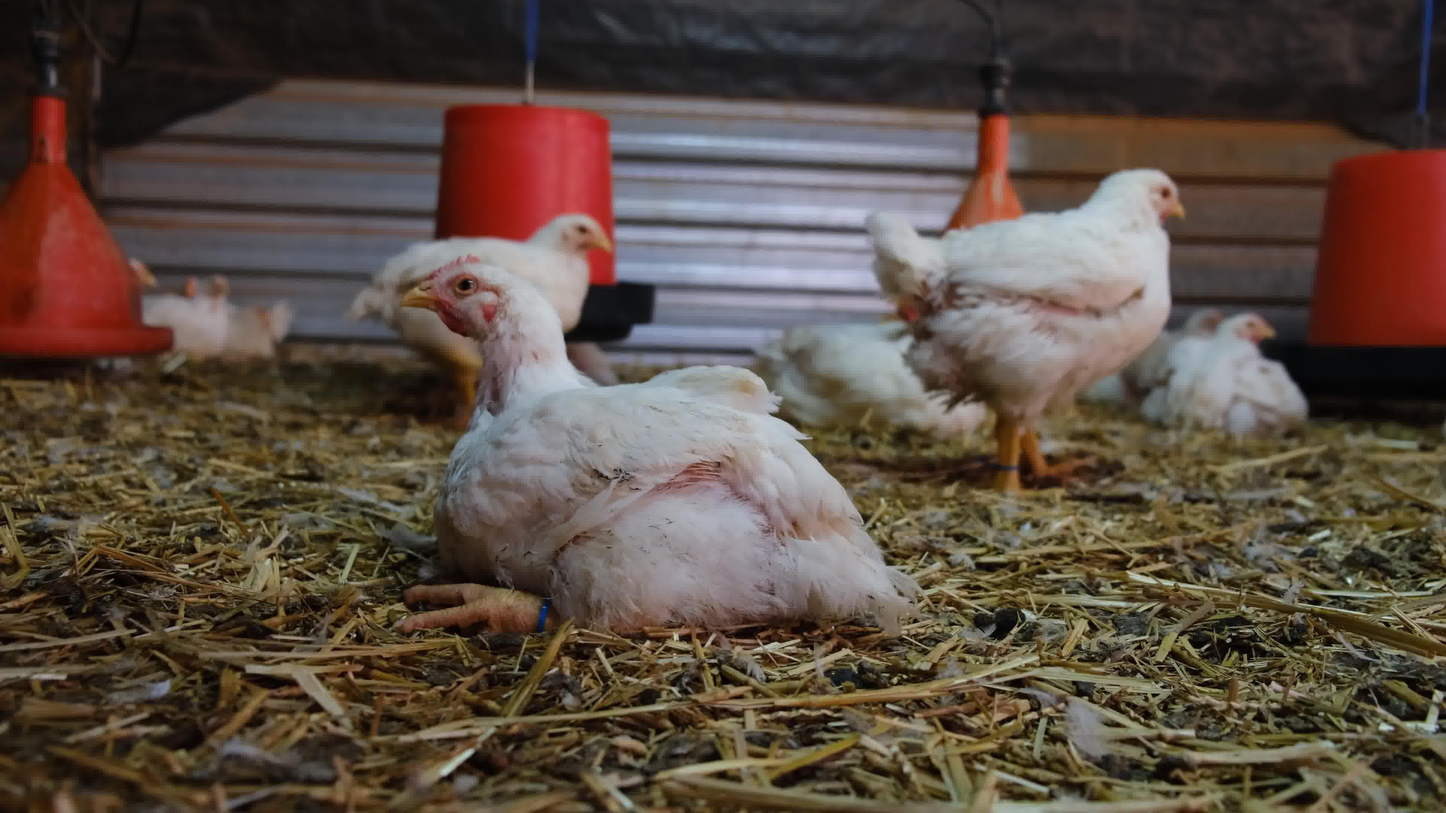AbNormal: (384, 250, 923, 646), (725, 307, 1043, 450), (1182, 312, 1312, 455), (1160, 292, 1241, 405), (237, 295, 307, 363)
Normal: (864, 156, 1188, 536), (339, 203, 629, 376), (143, 271, 252, 365)
